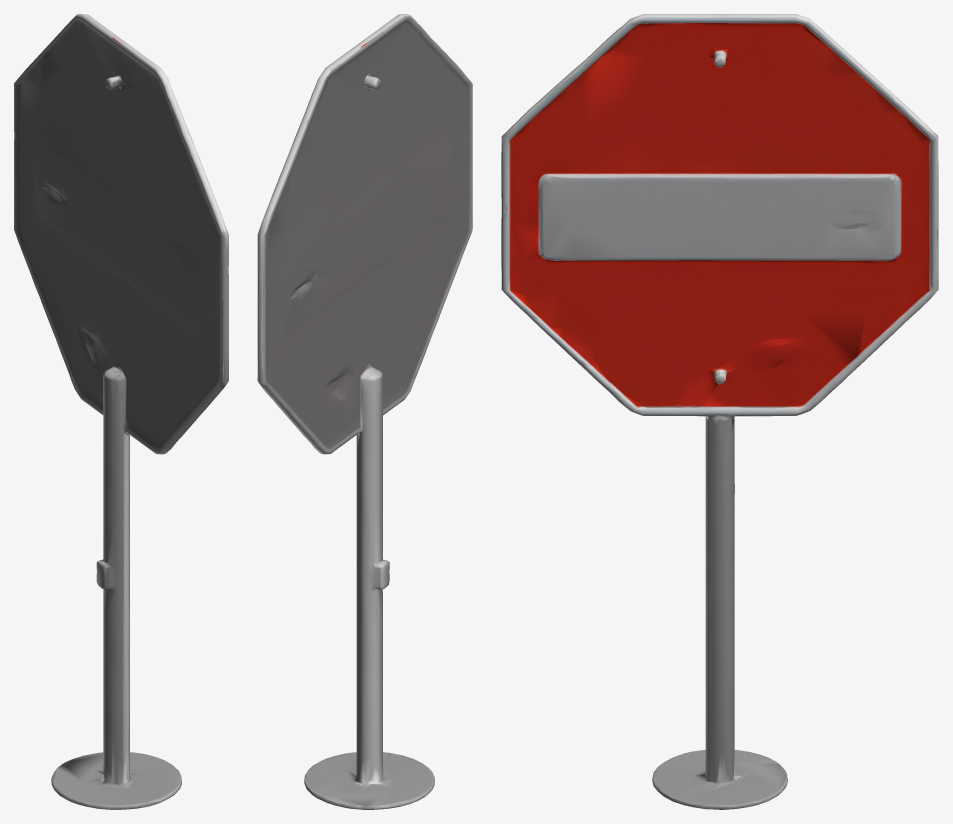
File: Stop.fbx
The picture shows the model from 3 angles, left to right: view 1: azimuth 30°, elevation 25°; view 2: azimuth 150°, elevation 25°; view 3: azimuth 270°, elevation 25°; orthographic projection. The views are drawn at different scales.
Visible parts, largest first — view 1: tripo_node_107b442b; view 2: tripo_node_107b442b; view 3: tripo_node_107b442b.
Boxes of the visible parts, box(x1,y1,x2,y2) form: tripo_node_107b442b: box(14, 14, 228, 809); tripo_node_107b442b: box(257, 14, 472, 809); tripo_node_107b442b: box(501, 14, 938, 809).
Bounding box in the file's own units: 0.1603 × 0.9999 × 0.5149.
Materials: 1 (1 with a texture image).
